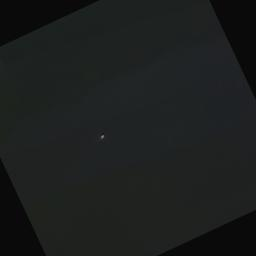boat: (100, 134, 104, 138)
